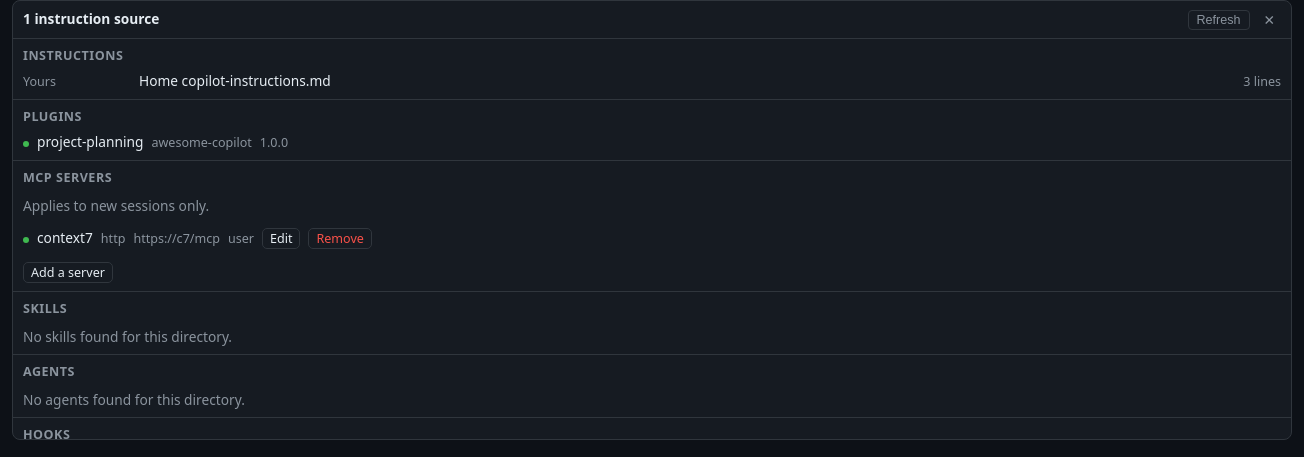
Environment, editing MCP servers › the form › puts the form away without saving when cancelled
Click the button "Add a server".
click(68, 272)  # box [23,262,113,283]
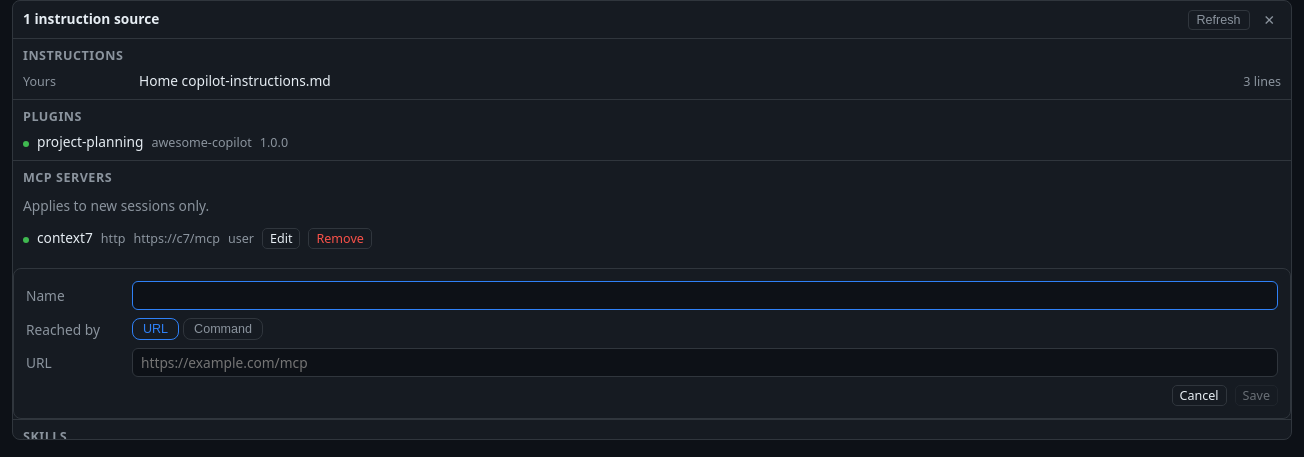
Click the button "Cancel".
click(1199, 396)  # box [1172,385,1227,406]
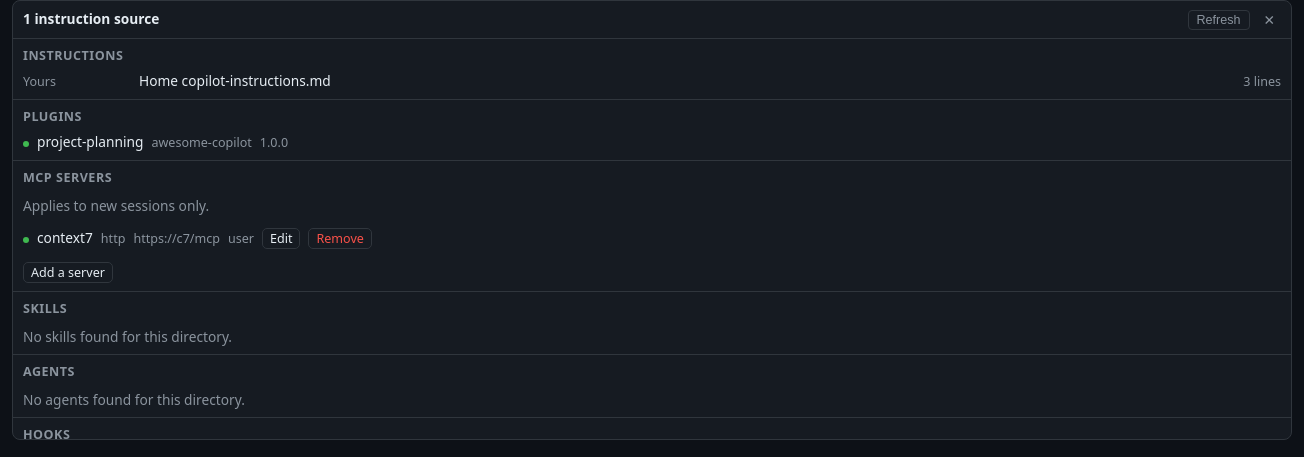
Now the text labelled "Name" is gone
